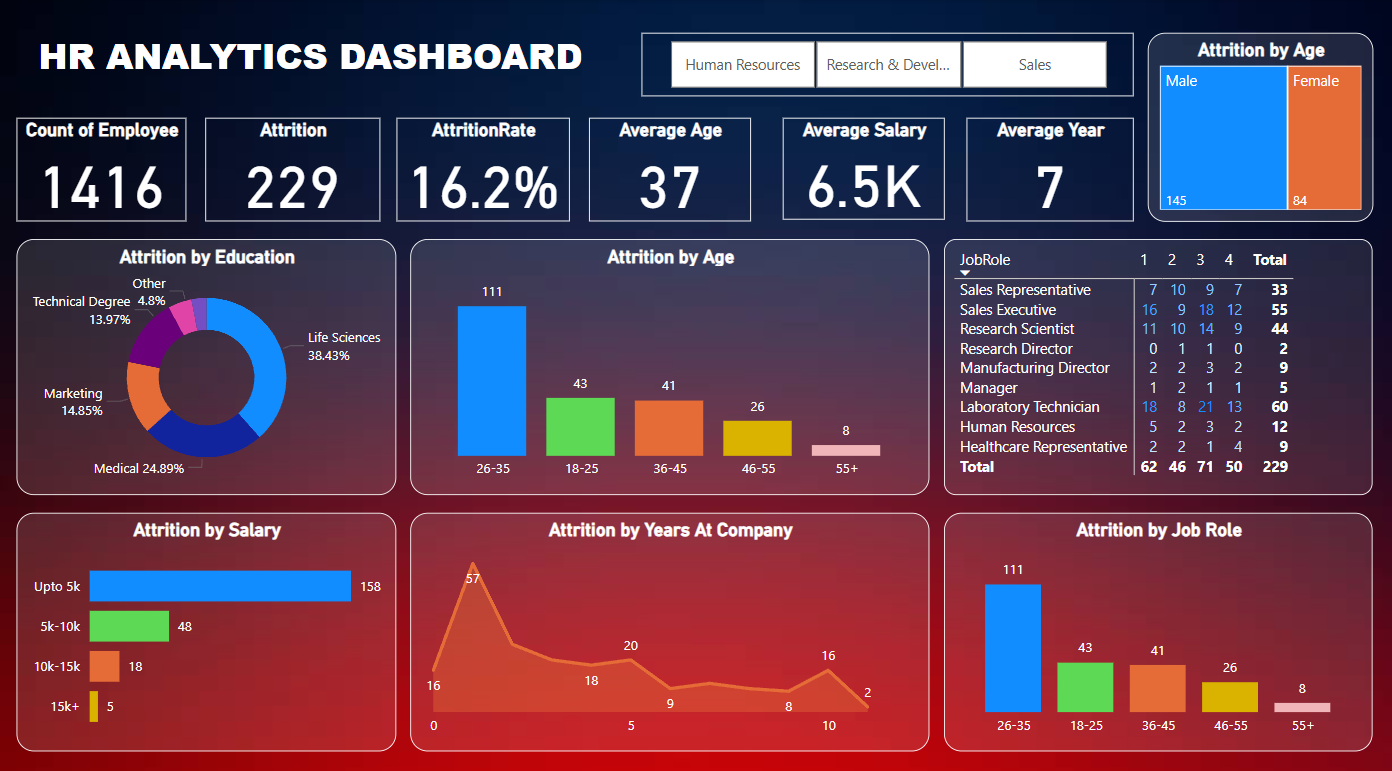

The dashboard page shown, as its layout file describes it:
{"tool":"powerbi","page":{"name":"Page 1","canvas":[1280,720],"ordinal":0},"visuals":[{"type":"card","title":"Count of Employee","fields":{"Values":["CountNonNull(HR_Analytics (2).EmpID)"]},"box":[16.1,109.4,156.1,94.8],"z":0},{"type":"card","title":"AttritionRate","fields":{"Values":["HR_Analytics (2).AttritionRate"]},"box":[364.8,109.4,159.1,94.8],"z":1000},{"type":"card","title":"Attrition","fields":{"Values":["Sum(HR_Analytics (2).AttritionCount)"]},"box":[189.7,109.4,160.5,94.8],"z":2000},{"type":"card","title":"Average Age","fields":{"Values":["Avg(HR_Analytics (2).Age)"]},"box":[541.4,109.4,148.8,94.8],"z":3000},{"type":"card","title":"Average Salary","fields":{"Values":["Avg(HR_Analytics (2).MonthlyIncome)"]},"box":[719.4,109.4,148.8,93.4],"z":4000},{"type":"card","title":"Average Year","fields":{"Values":["Avg(HR_Analytics (2).YearsAtCompany)"]},"box":[888.7,109.4,153.2,94.8],"z":5000},{"type":"donutChart","title":"Attrition by Education","fields":{"Y":["Sum(HR_Analytics (2).AttritionCount)"],"Category":["HR_Analytics (2).EducationField"]},"box":[16.1,220.3,348.8,234.9],"z":6000},{"type":"columnChart","title":"Attrition by Age","fields":{"Category":["HR_Analytics (2).AgeGroup"],"Y":["Sum(HR_Analytics (2).AttritionCount)"]},"box":[377.9,220.3,477.2,234.9],"z":7000},{"type":"pivotTable","fields":{"Rows":["HR_Analytics (2).JobRole"],"Columns":["HR_Analytics (2).JobSatisfaction"],"Values":["Sum(HR_Analytics (2).AttritionCount)"]},"box":[868.2,220.3,394,234.9],"z":8000},{"type":"barChart","title":"Attrition by Age","fields":{"Category":["HR_Analytics (2).SalarySlab"],"Y":["Sum(HR_Analytics (2).AttritionCount)"]},"box":[16.1,471.3,348.8,218.9],"z":9000},{"type":"areaChart","title":"Attrition by Age","fields":{"Category":["HR_Analytics (2).YearsAtCompany"],"Y":["Sum(HR_Analytics (2).AttritionCount)"]},"box":[377.9,471.3,477.2,218.9],"z":10000},{"type":"columnChart","title":"Attrition by Age","fields":{"Category":["HR_Analytics (2).AgeGroup"],"Y":["Sum(HR_Analytics (2).AttritionCount)"]},"box":[868.2,471.3,394,218.9],"z":11000},{"type":"treemap","title":"Attrition by Age","fields":{"Group":["HR_Analytics (2).Gender"],"Values":["Sum(HR_Analytics (2).AttritionCount)"]},"box":[1055,30.6,207.2,173.6],"z":12000},{"type":"slicer","fields":{"Values":["HR_Analytics (2).Department"]},"box":[590.1,30.6,452.4,58.4],"z":13000},{"type":"textbox","box":[30.9,23.9,531.9,73],"z":14000}]}

Visuals, with their boxes in screenshot pixels (x1, y1, x2, y2), scaled from the page's 1280x720 canvas onto the 1392x771 screenshot:
"Count of Employee" card: [18, 117, 187, 219]
"AttritionRate" card: [397, 117, 570, 219]
"Attrition" card: [206, 117, 381, 219]
"Average Age" card: [589, 117, 751, 219]
"Average Salary" card: [782, 117, 944, 217]
"Average Year" card: [966, 117, 1133, 219]
"Attrition by Education" donutChart: [18, 236, 397, 487]
"Attrition by Age" columnChart: [411, 236, 930, 487]
pivotTable - HR_Analytics (2).JobRole x HR_Analytics (2).JobSatisfaction: [944, 236, 1373, 487]
"Attrition by Age" barChart: [18, 505, 397, 739]
"Attrition by Age" areaChart: [411, 505, 930, 739]
"Attrition by Age" columnChart: [944, 505, 1373, 739]
"Attrition by Age" treemap: [1147, 33, 1373, 219]
slicer - HR_Analytics (2).Department: [642, 33, 1134, 95]
textbox: [34, 26, 612, 104]
